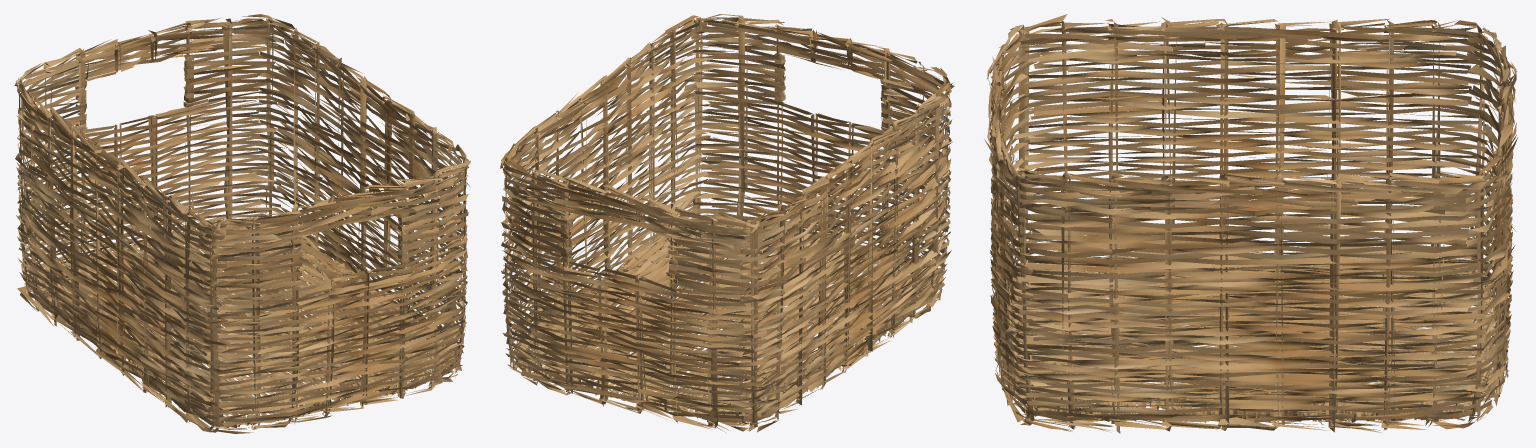
The picture shows the model from 3 angles, left to right: view 1: azimuth 30°, elevation 25°; view 2: azimuth 150°, elevation 25°; view 3: azimuth 270°, elevation 25°; orthographic projection. The views are drawn at different scales.
Visible parts, largest first — view 1: Mesh_0; view 2: Mesh_0; view 3: Mesh_0.
Boxes of the visible parts, bbox=[...] form: Mesh_0: bbox=[14, 14, 470, 433]; Mesh_0: bbox=[500, 14, 954, 432]; Mesh_0: bbox=[984, 14, 1517, 433].
Bounding box in the file's own units: 0.185 × 0.144 × 0.2594.
Materials: 1 (1 with a texture image).
